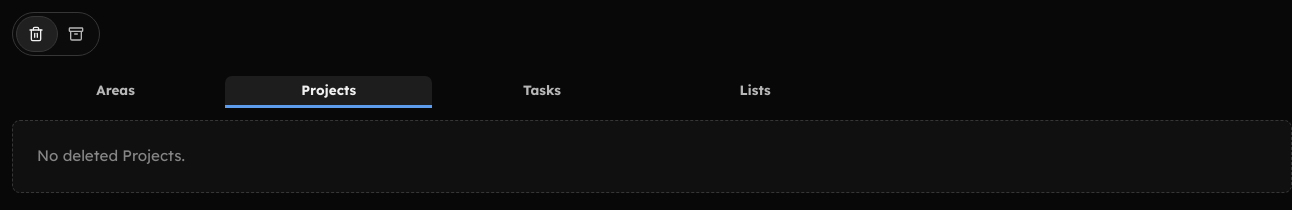
Test case: TrashView › switches from Deleted Tasks to Archived while keeping one entity tab row
Click the button "Tasks" at (542, 92), box [438, 76, 646, 108]
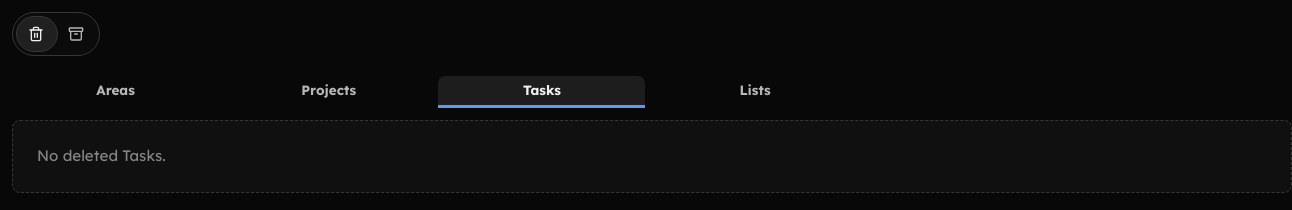
Click the button named "Showing Deleted items" at (56, 34), box [12, 12, 100, 56]
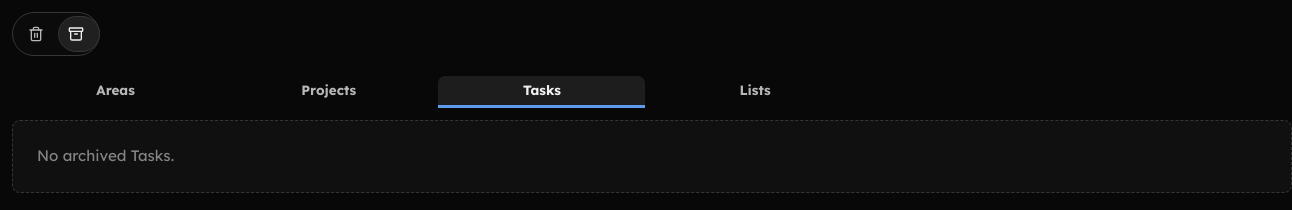
expect the text "No archived Tasks." is shown: met, box [37, 146, 174, 165]
